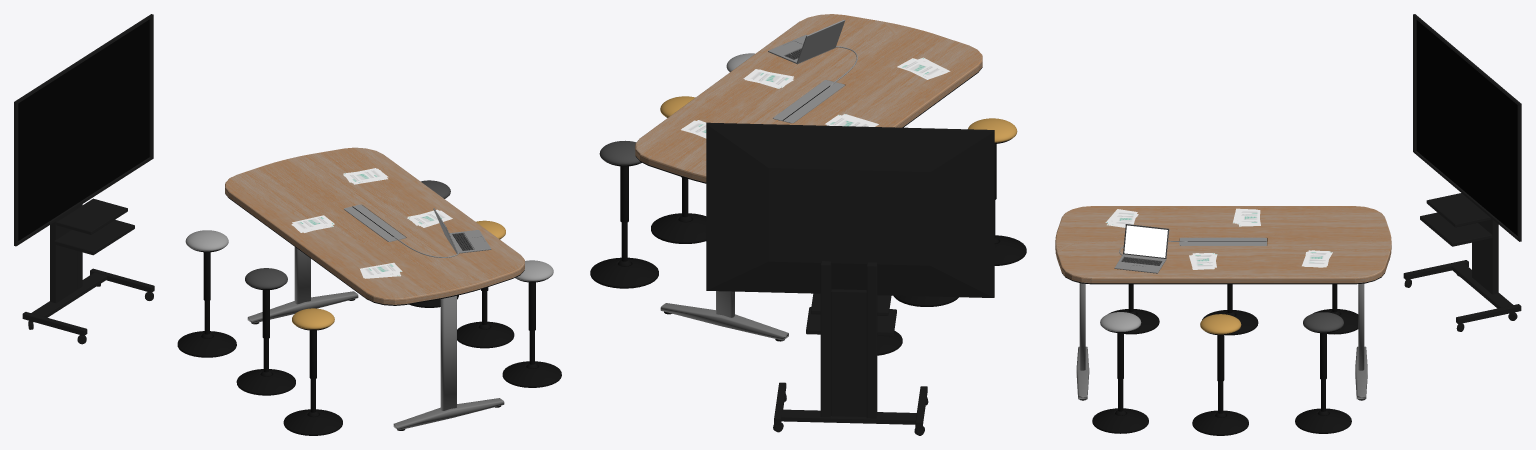
File: work1_7.glb
The picture shows the model from 3 angles, left to right: view 1: azimuth 30°, elevation 25°; view 2: azimuth 150°, elevation 25°; view 3: azimuth 270°, elevation 25°; orthographic projection. The views are drawn at different scales.
Parts seen in each view (by area): view 1: 立方体.003, 立方体, 立方体.005, Vert.013, Vert.012, 円柱.014, 円柱.021, 円柱.025, 円柱.010, 円柱.018, 立方体.004, 立方体.001 (+10 smaller); view 2: 立方体, 立方体.003, Vert.009, Vert.011, Vert.010, 円柱.015, 立方体.001, 円柱.018, Vert.007, Cube.001, ICO球.003, 円柱.025 (+10 smaller); view 3: 立方体.003, 立方体, Cube.001, Vert.013, Vert.012, 円柱.014, 円柱.018, 円柱.015, Vert.010, Vert.009, ICO球.003, ICO球.004 (+12 smaller).
Boxes of the visible parts, x1,y1,x2,y2 form: 立方体.003: (225, 147, 524, 305); 立方体: (14, 14, 153, 246); 立方体.005: (440, 296, 456, 410); Vert.013: (56, 198, 127, 234); Vert.012: (54, 219, 134, 255); 円柱.014: (502, 361, 561, 387); 円柱.021: (177, 331, 236, 357); 円柱.025: (283, 409, 342, 435); 円柱.010: (236, 369, 295, 395); 円柱.018: (457, 321, 514, 348); 立方体.004: (393, 398, 504, 430); 立方体.001: (247, 291, 358, 323); 立方体: (706, 122, 994, 297); 立方体.003: (635, 14, 982, 183); Vert.009: (831, 289, 866, 416); Vert.011: (866, 262, 877, 418); Vert.010: (820, 261, 831, 417); 円柱.015: (590, 257, 658, 288); 立方体.001: (660, 303, 788, 340); 円柱.018: (651, 213, 706, 243); Vert.007: (781, 409, 916, 424); Cube.001: (797, 19, 845, 63); ICO球.003: (599, 140, 641, 166); 円柱.025: (994, 235, 1026, 265); 立方体.003: (1055, 206, 1391, 284); 立方体: (1413, 14, 1521, 241); Cube.001: (1123, 224, 1169, 258); Vert.013: (1426, 193, 1490, 227); Vert.012: (1420, 212, 1492, 246); 円柱.014: (1092, 408, 1148, 433); 円柱.018: (1192, 410, 1248, 435); 円柱.015: (1295, 408, 1351, 433); Vert.010: (1489, 218, 1498, 294); Vert.009: (1475, 220, 1488, 291); ICO球.003: (1303, 312, 1343, 333); ICO球.004: (1200, 314, 1241, 335).
Size of the model in its own units: 5.21 by 3.22 by 5.59.
Materials: 17 (2 with a texture image).
